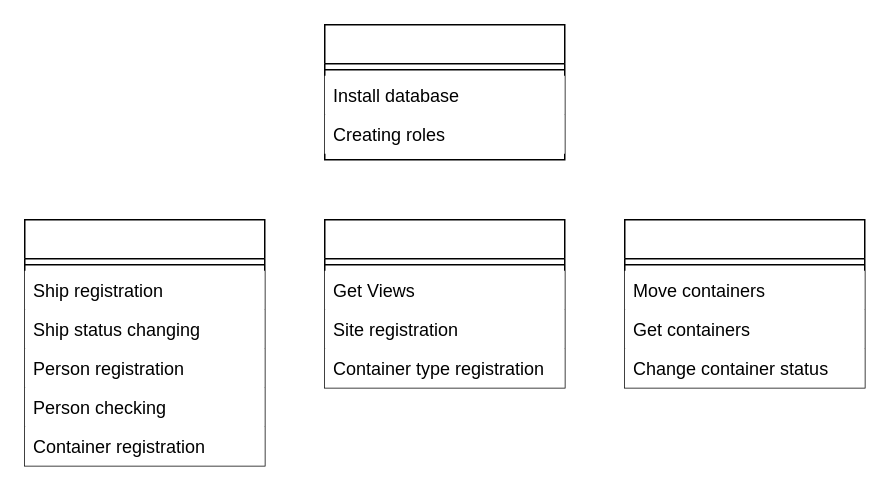
Image size: 890x491. Some labels were removed from this diagram. Each missing label, with the box of its shape:
Port_admin: (323, 23, 565, 160)
Port_manager: (323, 218, 565, 388)
Ship_manager: (23, 218, 265, 466)
Site_manager: (623, 218, 865, 388)
